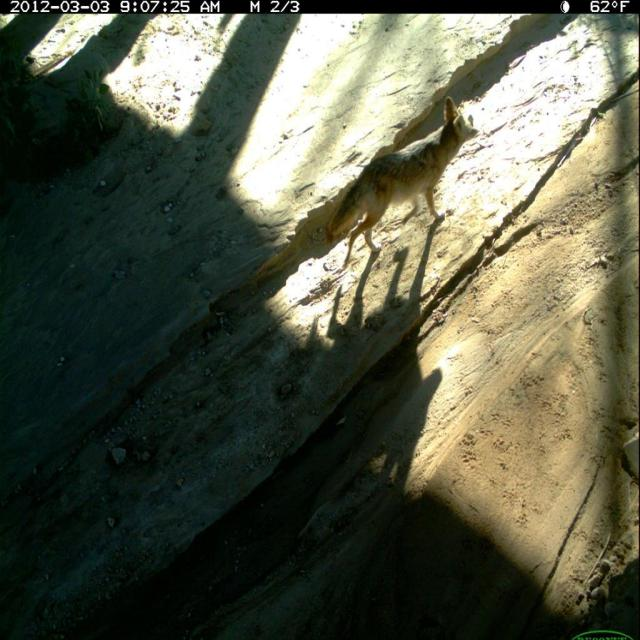coyote: (324, 94, 485, 272)
